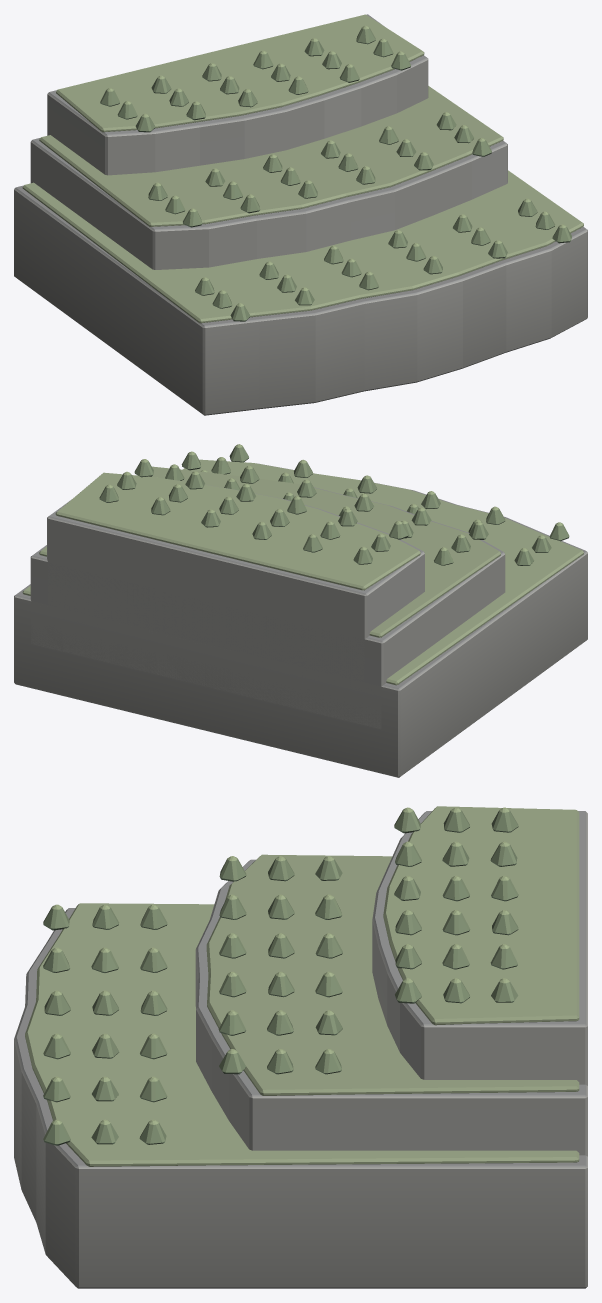
Rendered from iv_terrace.glb.
The picture shows the model from 3 angles, top to bottom: view 1: azimuth 30°, elevation 25°; view 2: azimuth 150°, elevation 25°; view 3: azimuth 270°, elevation 25°; orthographic projection. The views are drawn at different scales.
Visible parts, largest first — view 1: iv_terrace; view 2: iv_terrace; view 3: iv_terrace.
Boxes of the visible parts, x1,y1,x2,y2 form: iv_terrace: (14,14,587,415); iv_terrace: (14,444,587,777); iv_terrace: (14,806,587,1288).
Size of the model in its own units: 14 by 6.7 by 13.08.
